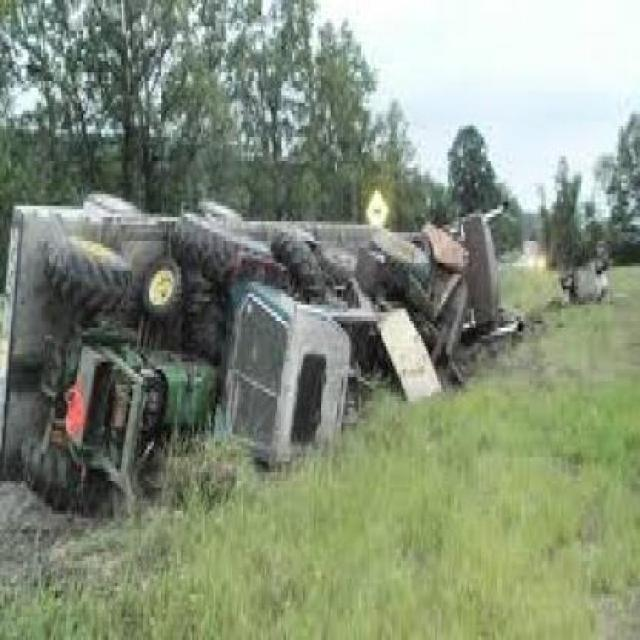accident: (9, 168, 520, 526)
